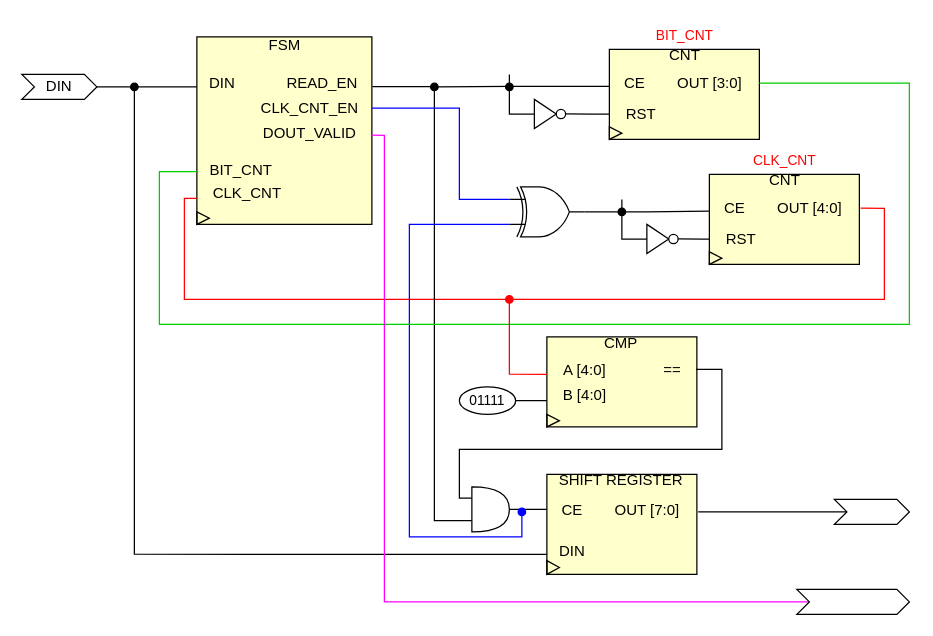
The diagram is 933 pixels wide and 636 high, and some of its shapes have lost their labels. Here are the shapes that lost their labels. From the top down, the box of each, then its label:
(833, 498, 909, 524): DOUT
(796, 588, 909, 614): DOUT_VLD
